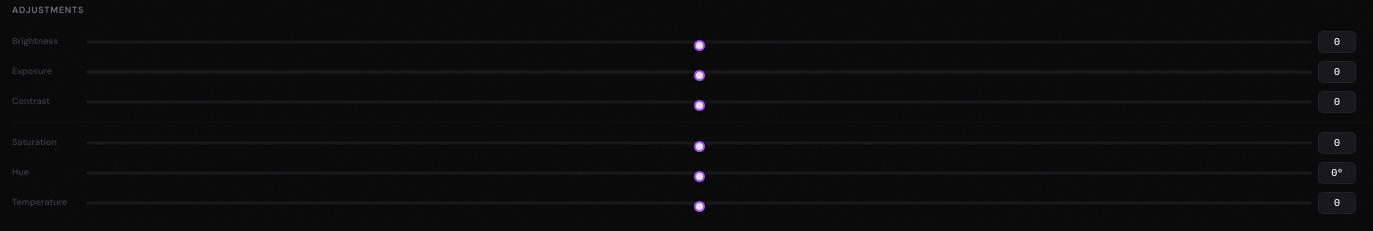
it: ImageAdjustments › shows the clamped value once Enter is pressed (F158)
Replace the text in the field with test id "adjustment-value-brightness" with "-" at (1337, 42), box [1318,30,1356,52]
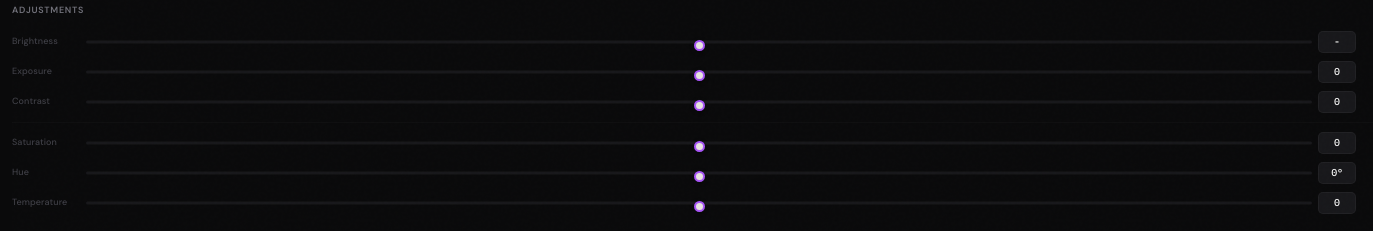
Press Enter in the field with test id "adjustment-value-brightness", box [1318,30,1356,52]
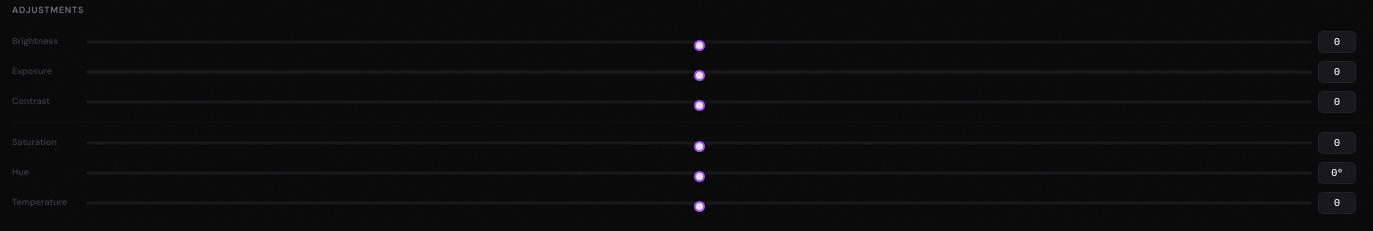
Now the field with test id "adjustment-value-brightness" holds "0", box [1318,30,1356,52]
